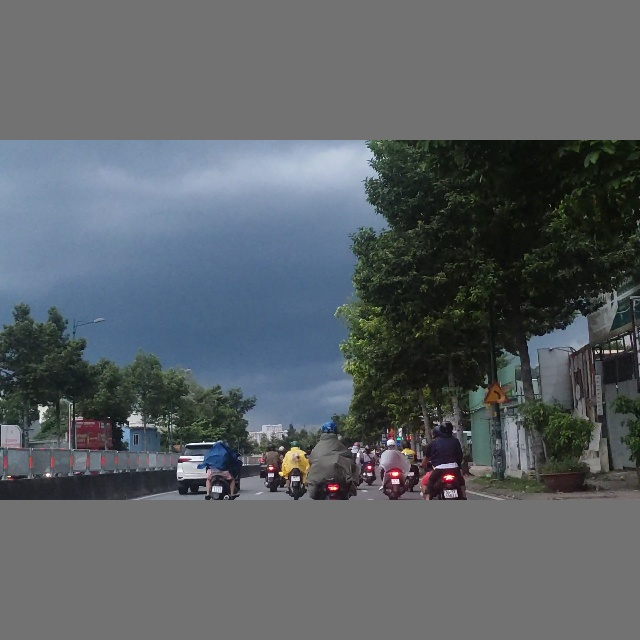W.201a: (483, 381, 510, 404)
